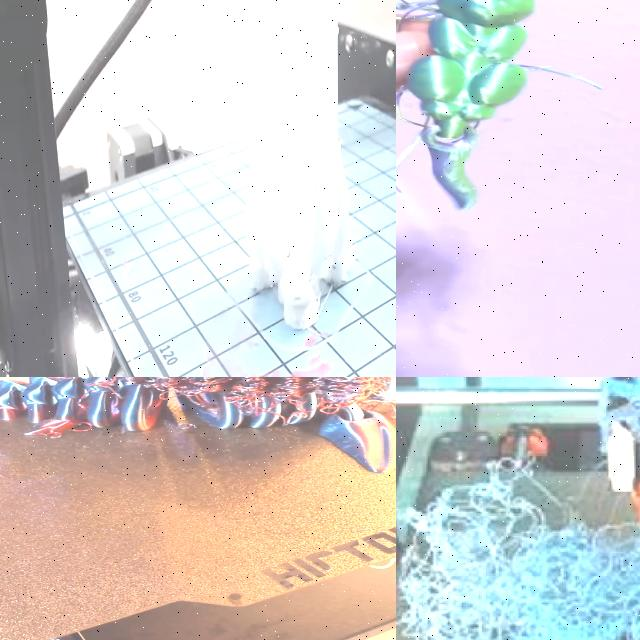spaghetti: (396, 487, 640, 640), (85, 377, 396, 415), (396, 0, 456, 58)
